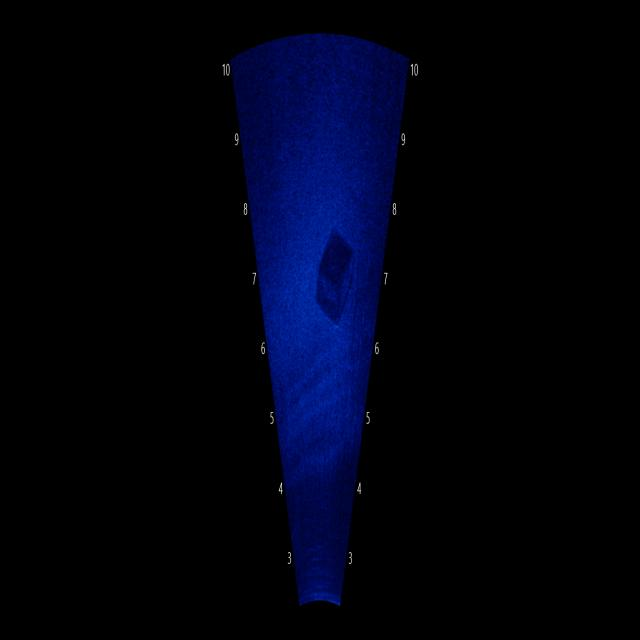square: (310, 221, 368, 342)
